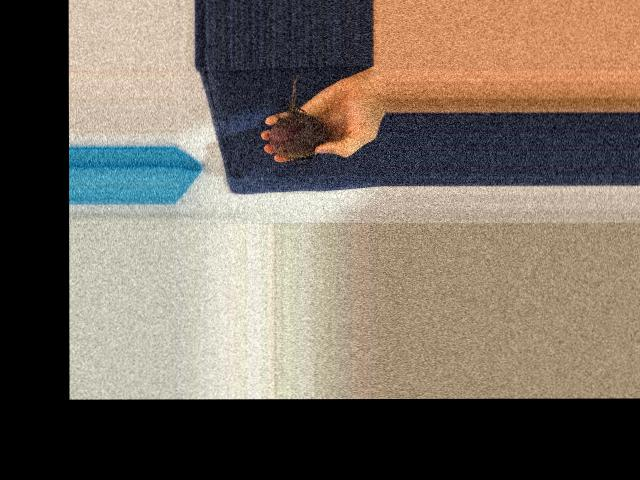beet: (267, 73, 326, 164)
